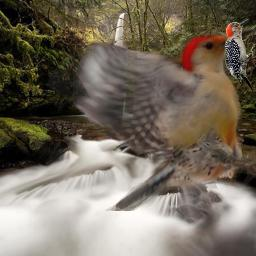Woodpecker: (44, 24, 256, 211), (222, 17, 255, 96)
